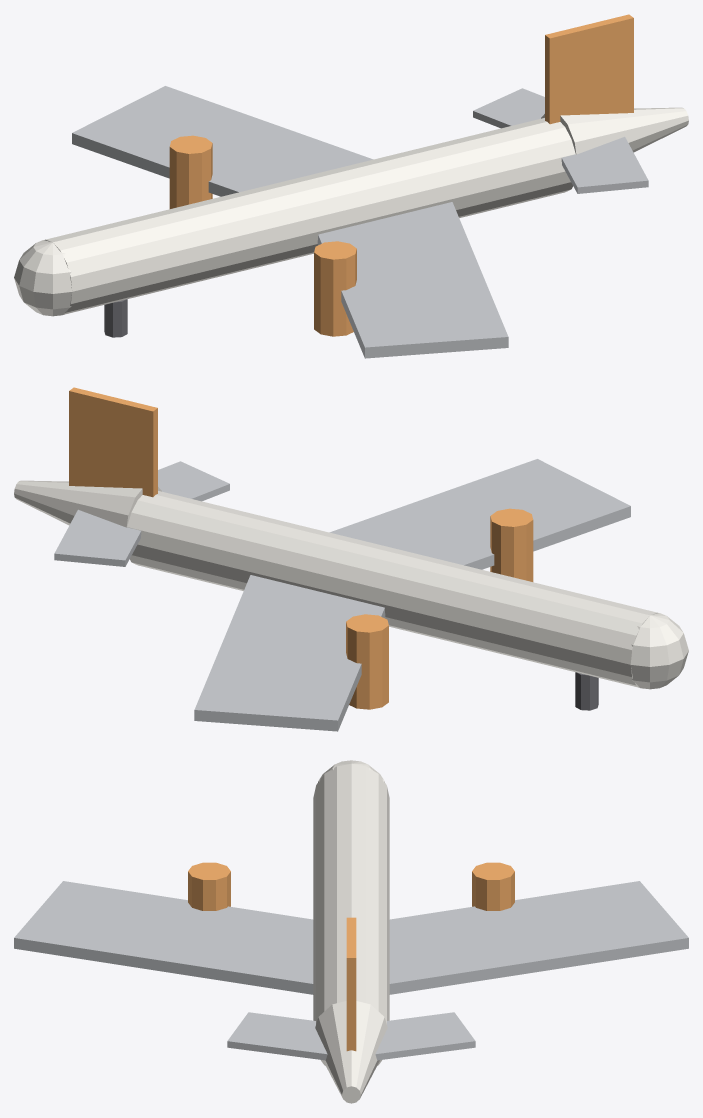
The model's file is euroairport-flugzeug-4.glb.
The picture shows the model from 3 angles, top to bottom: view 1: azimuth 30°, elevation 25°; view 2: azimuth 150°, elevation 25°; view 3: azimuth 270°, elevation 25°; orthographic projection.
Parts seen in each view (by area): view 1: building; view 2: building; view 3: building.
Part boxes in pixels (bbox=[...]): building: bbox=[14, 14, 688, 358]; building: bbox=[14, 387, 688, 731]; building: bbox=[14, 760, 688, 1103].
Bounding box in the file's own units: 31.6 × 8.66 × 28.24.
